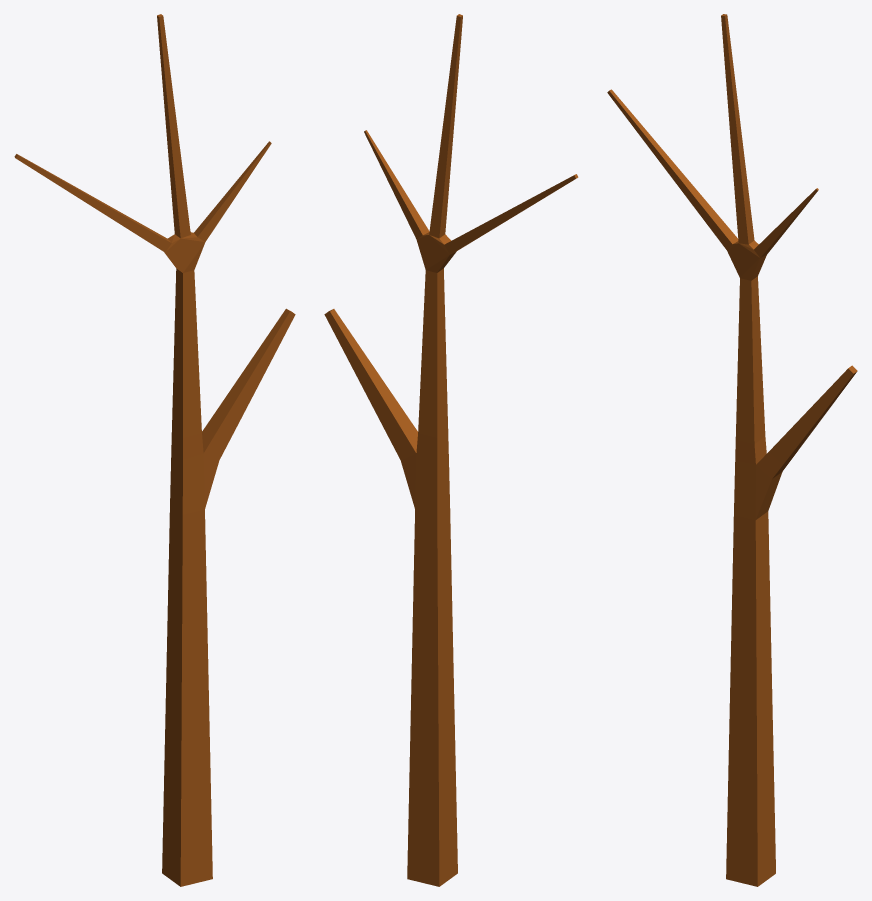
The model's file is stick.obj.
3 views of the same model, side by side, from view 1: azimuth 30°, elevation 25°; view 2: azimuth 150°, elevation 25°; view 3: azimuth 330°, elevation 25° (orthographic).
Visible parts, largest first — view 1: Plane; view 2: Plane; view 3: Plane.
Boxes of the visible parts, left/top/right/bottom form: Plane: left=14, top=14, right=295, bottom=886; Plane: left=324, top=14, right=578, bottom=886; Plane: left=607, top=14, right=857, bottom=886.
Bounding box in the file's own units: 0.3069 × 0.96 × 0.0484.
